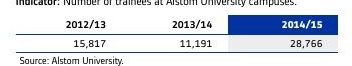table: (0, 0, 352, 66)
